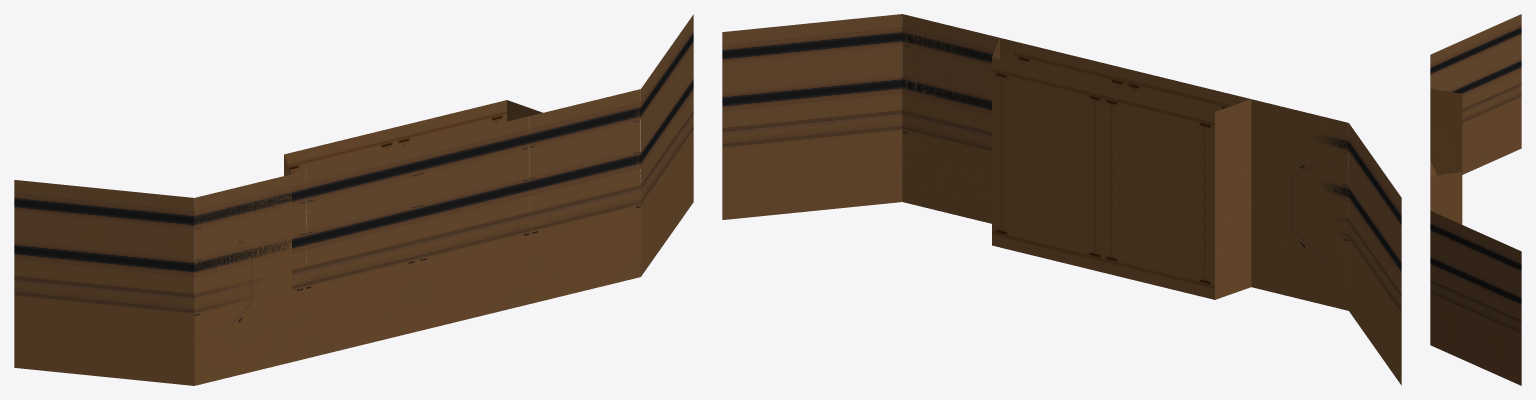
Rendered from WallsPlataformExterior1_WallExterior.fbx.
3 views of the same model, side by side, from view 1: azimuth 30°, elevation 25°; view 2: azimuth 150°, elevation 25°; view 3: azimuth 270°, elevation 25° (orthographic). The views are drawn at different scales.
Visible parts, largest first — view 1: WallExterior1, WallHoleExterior1, WallExterior5; view 2: WallExterior5, WallExterior1, WallExterior5.5; view 3: WallExterior1, WallExterior5.
Part boxes in pixels (x1=…): WallExterior1: x1=14, y1=14, x2=693, y2=385; WallHoleExterior1: x1=306, y1=116, x2=529, y2=357; WallExterior5: x1=194, y1=90, x2=640, y2=384; WallExterior5: x1=902, y1=14, x2=1348, y2=310; WallExterior1: x1=722, y1=14, x2=1401, y2=385; WallExterior5.5: x1=1000, y1=38, x2=1250, y2=111; WallExterior1: x1=1430, y1=14, x2=1521, y2=385; WallExterior5: x1=1430, y1=89, x2=1462, y2=224.
Bounding box in the file's own units: 1798 × 476 × 292.
